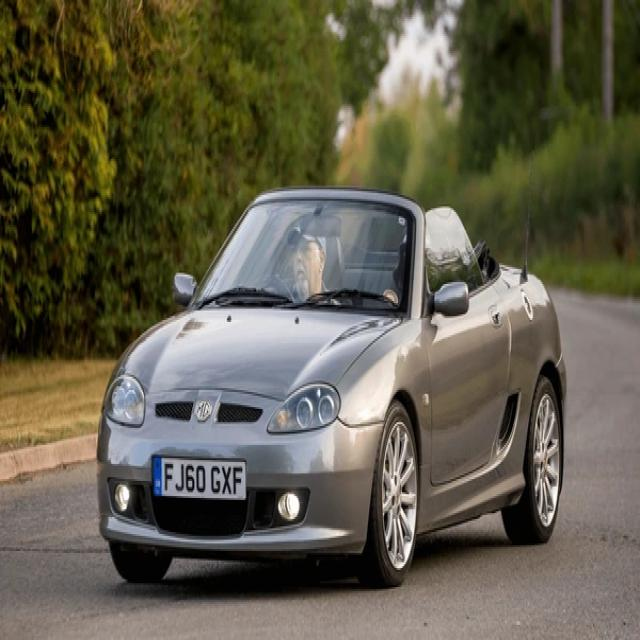mg: (196, 394, 213, 427)
